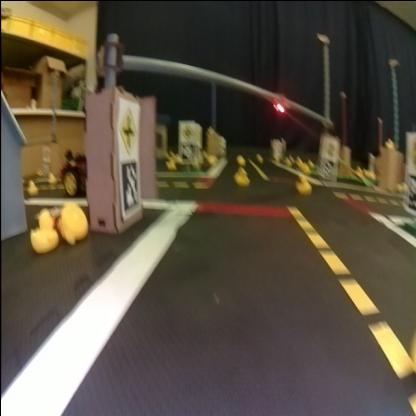Duckie: (58, 203, 87, 241), (30, 209, 56, 248), (295, 174, 311, 192), (235, 165, 249, 183)
Intersection sign: (120, 102, 139, 152), (180, 121, 192, 140)
QR code: (120, 158, 139, 210), (180, 142, 194, 160), (322, 160, 336, 178)
